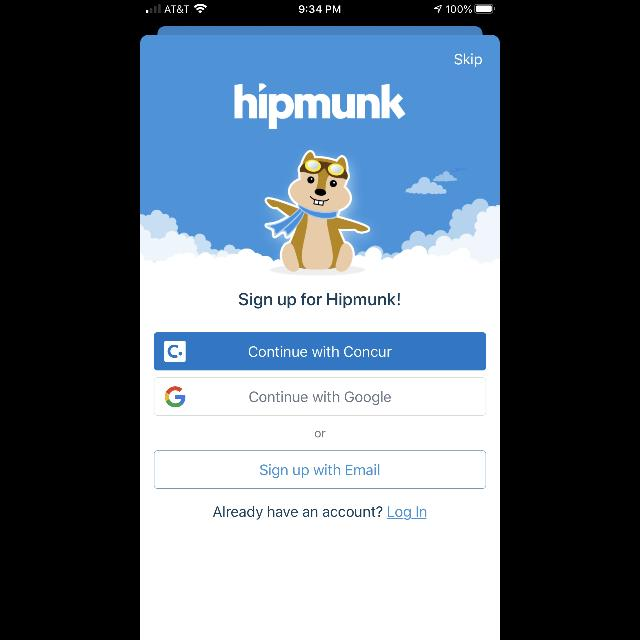image: (140, 34, 500, 276), (235, 84, 405, 128)
text: (214, 506, 426, 520), (240, 294, 400, 308), (454, 54, 482, 66), (315, 431, 325, 437)
textbutton: (154, 450, 486, 488), (154, 378, 486, 416), (154, 332, 486, 370)
uppertaskbar: (140, 0, 500, 14)
